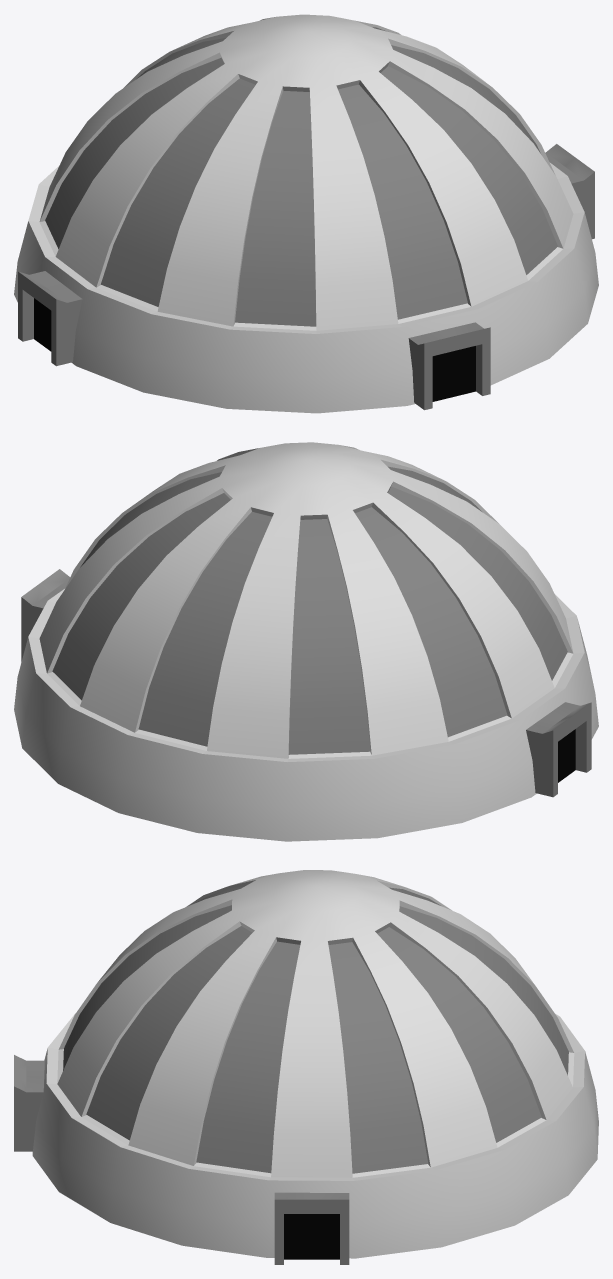
The model's file is Dome.obj.
3 views of the same model, one above another, from view 1: azimuth 30°, elevation 25°; view 2: azimuth 150°, elevation 25°; view 3: azimuth 270°, elevation 25° (orthographic). The views are drawn at different scales.
Visible parts, largest first — view 1: Dome_Updated:Dome4; view 2: Dome_Updated:Dome4; view 3: Dome_Updated:Dome4.
Part boxes in pixels (x1,y1,x2,y2): Dome_Updated:Dome4: (14, 14, 598, 413); Dome_Updated:Dome4: (14, 442, 598, 841); Dome_Updated:Dome4: (14, 870, 598, 1264).
Size of the model in its own units: 64.55 by 29.75 by 62.56.
